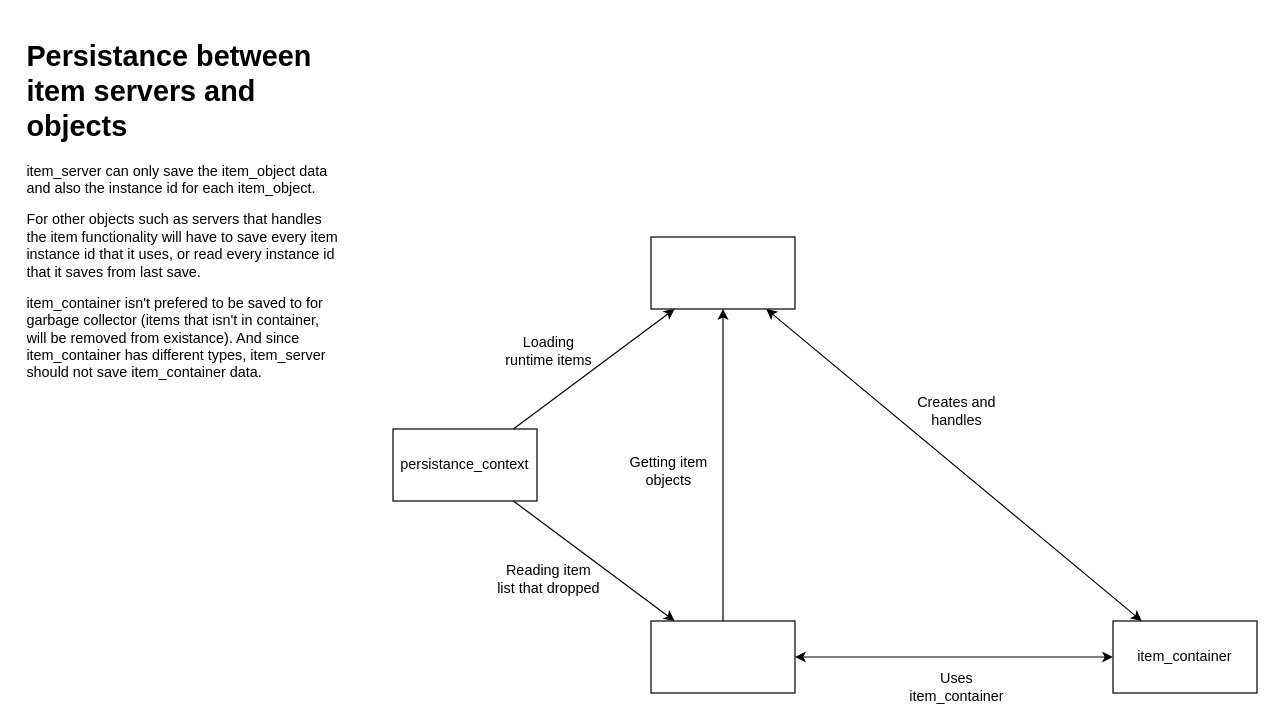
Some shapes in this 1278 by 725 pixel diagram are drawn without their labels. The centre of each missing label's shape, as x and y in pixels:
item_server: the point at 722,272
iwe2d_handler: the point at 722,656
